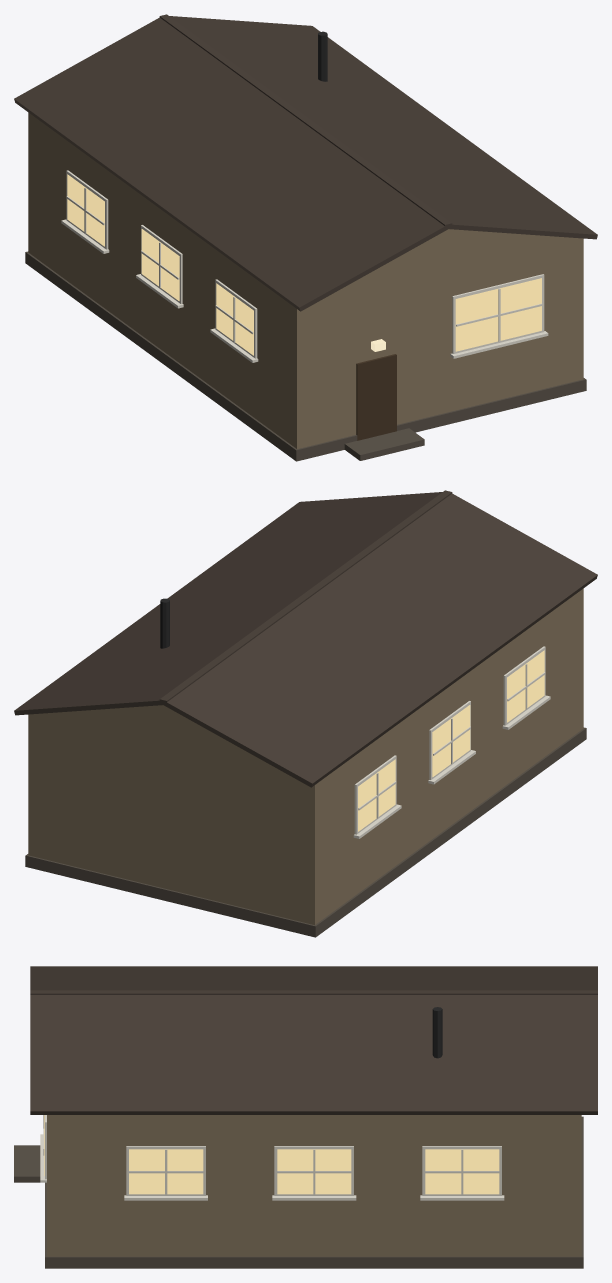
The model's file is yard-office.glb.
3 renders of one model, top to bottom at view 1: azimuth 30°, elevation 25°; view 2: azimuth 150°, elevation 25°; view 3: azimuth 270°, elevation 25°, orthographic.
Parts seen in each view (by area): view 1: part-roof, part-walls, part-lit-glass, part-plinth, part-trim, part-door; view 2: part-roof, part-walls, part-plinth, part-lit-glass, part-trim; view 3: part-roof, part-walls, part-lit-glass, part-plinth, part-trim, part-iron.
Part boxes in pixels (<box>): part-roof: <box>14,14,597,311</box>; part-walls: <box>28,112,583,448</box>; part-lit-glass: <box>67,174,541,355</box>; part-plinth: <box>25,251,586,461</box>; part-trim: <box>61,170,548,362</box>; part-door: <box>356,354,396,440</box>; part-roof: <box>14,490,597,787</box>; part-walls: <box>28,588,583,924</box>; part-plinth: <box>25,727,586,937</box>; part-lit-glass: <box>358,650,544,831</box>; part-trim: <box>353,646,550,838</box>; part-roof: <box>30,966,597,1114</box>; part-walls: <box>47,1115,581,1256</box>; part-lit-glass: <box>44,1115,499,1194</box>; part-plinth: <box>14,1116,583,1268</box>; part-trim: <box>40,1115,504,1200</box>; part-iron: <box>432,1007,442,1058</box>.
Bounding box in the file's own units: 83.34 × 61 × 142.
